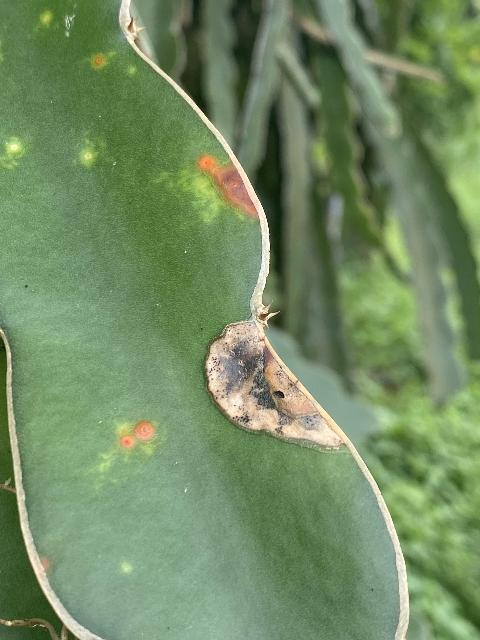stemcanker: (199, 311, 359, 455), (189, 149, 265, 224), (115, 410, 162, 454)
